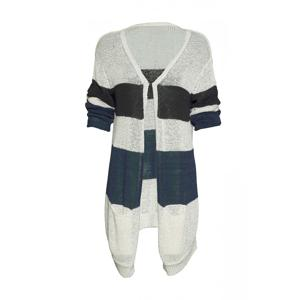S_cardigan sweater: (89, 27, 228, 281)
